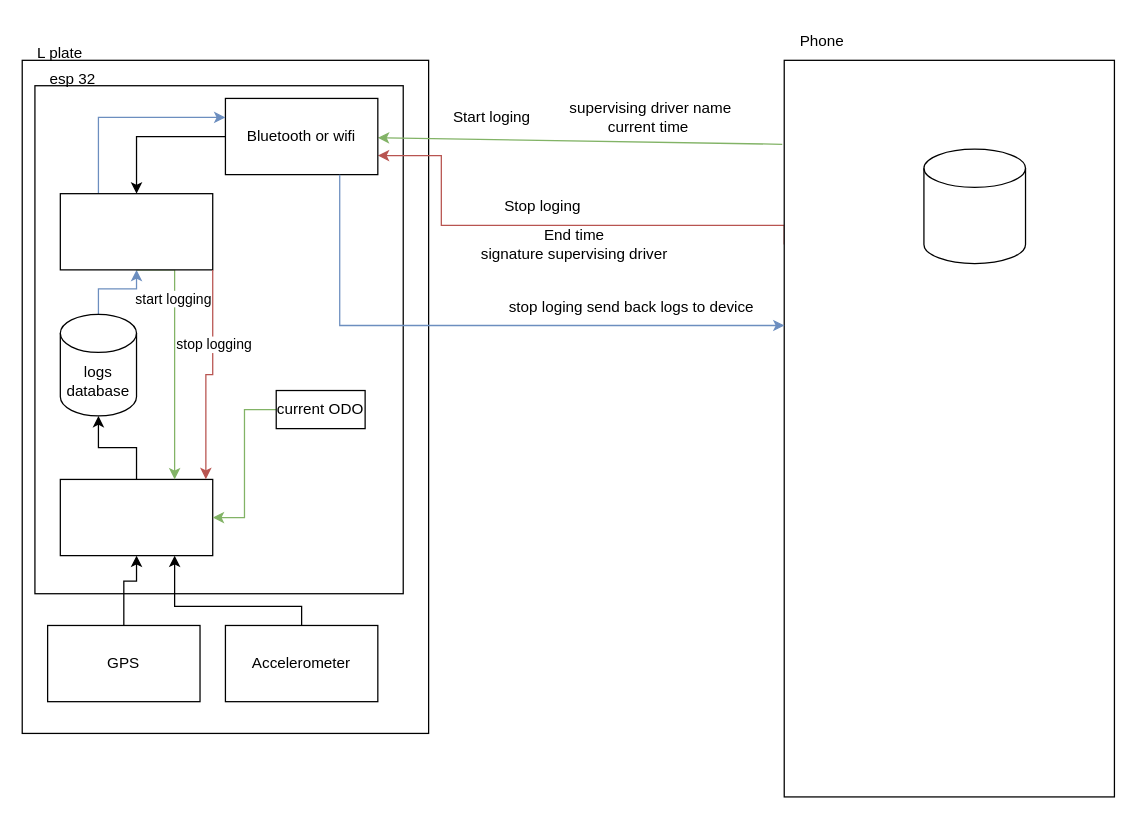
This 1137x819 diagram has some shape labels left out. Each missing label, with the box of its shape:
Logger: (59, 478, 213, 556)
logs to be transmitted: (923, 148, 1026, 264)
server: (59, 192, 213, 270)
